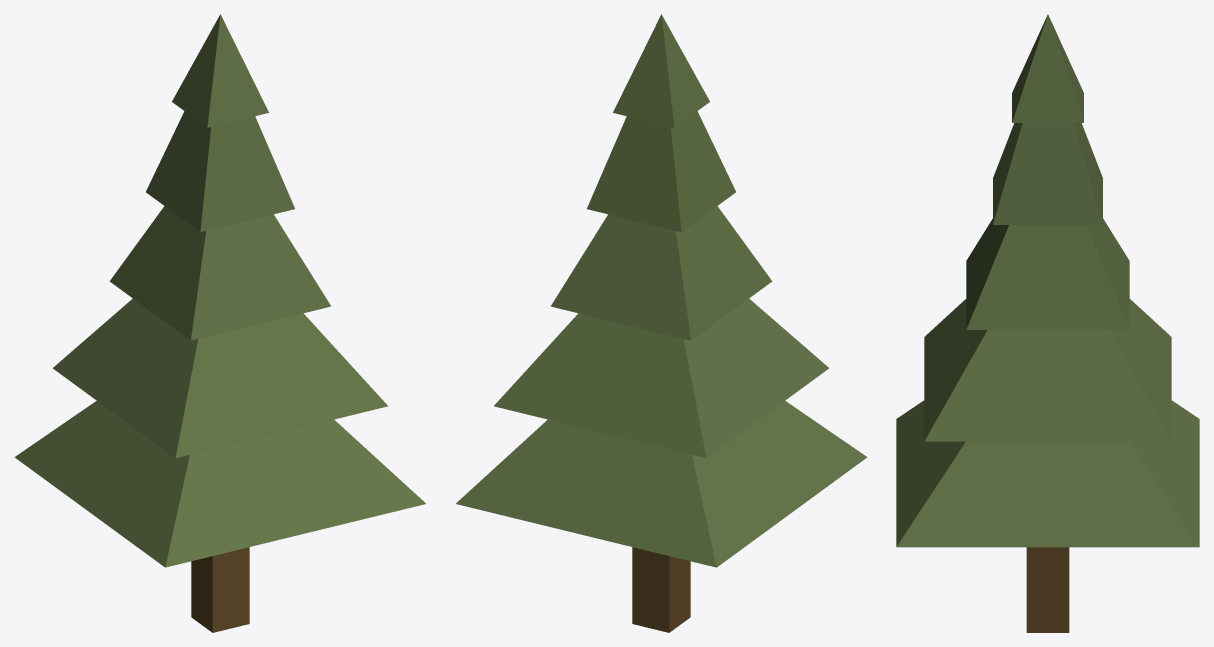
The model's file is Christmas_23.fbx.
3 views of the same model, side by side, from view 1: azimuth 30°, elevation 25°; view 2: azimuth 150°, elevation 25°; view 3: azimuth 270°, elevation 25° (orthographic).
Visible parts, largest first — view 1: Christmas_23; view 2: Christmas_23; view 3: Christmas_23.
Part boxes in pixels (left/top/right/bottom): Christmas_23: left=14, top=14, right=425, bottom=632; Christmas_23: left=456, top=14, right=867, bottom=632; Christmas_23: left=896, top=14, right=1199, bottom=632.
Size of the model in its own units: 456 by 1012 by 456.
Materials: 1 (1 with a texture image).
